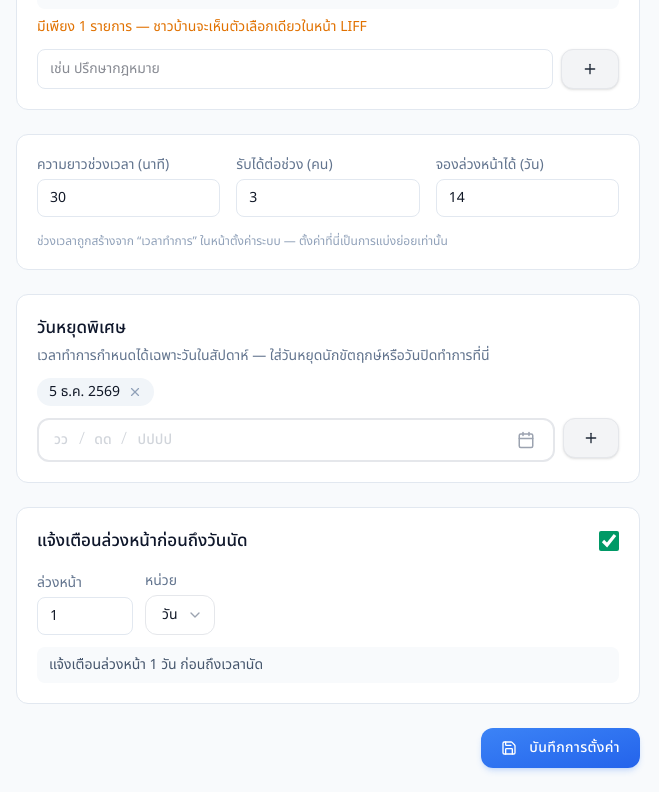
failure handling › surfaces a save error instead of pretending it worked
(page scrolled)
Click the button "บันทึกการตั้งค่า". click: (561, 748)
box: x1=481 y1=728 x2=640 y2=768
(page scrolled)
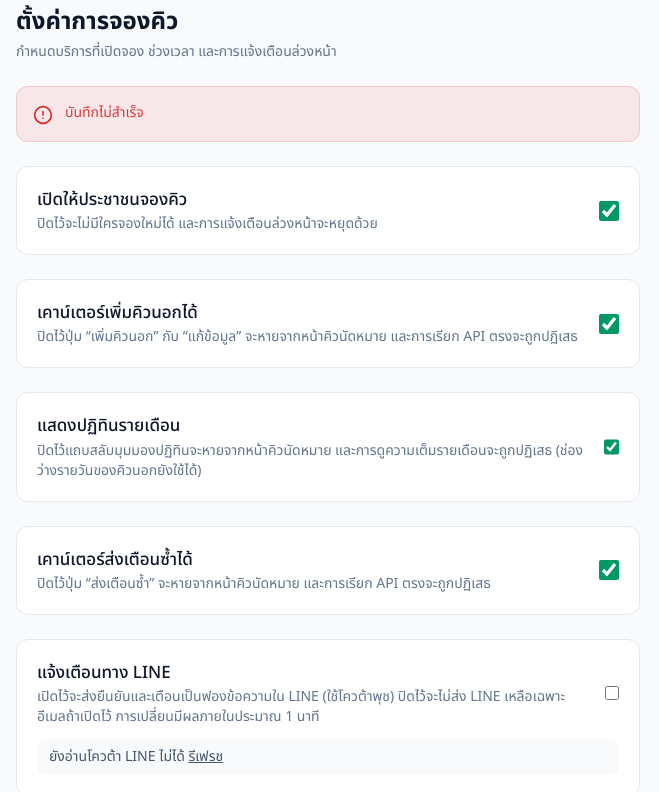
Now the text "บันทึกไม่สำเร็จ" is shown, box x1=65 y1=102 x2=144 y2=123
